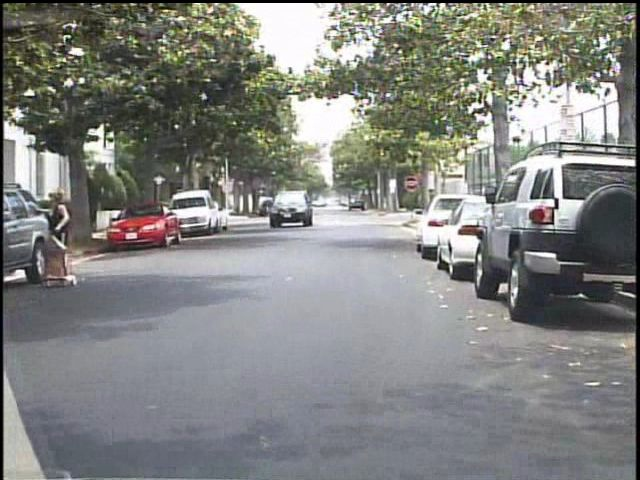person: (49, 185, 89, 290)
